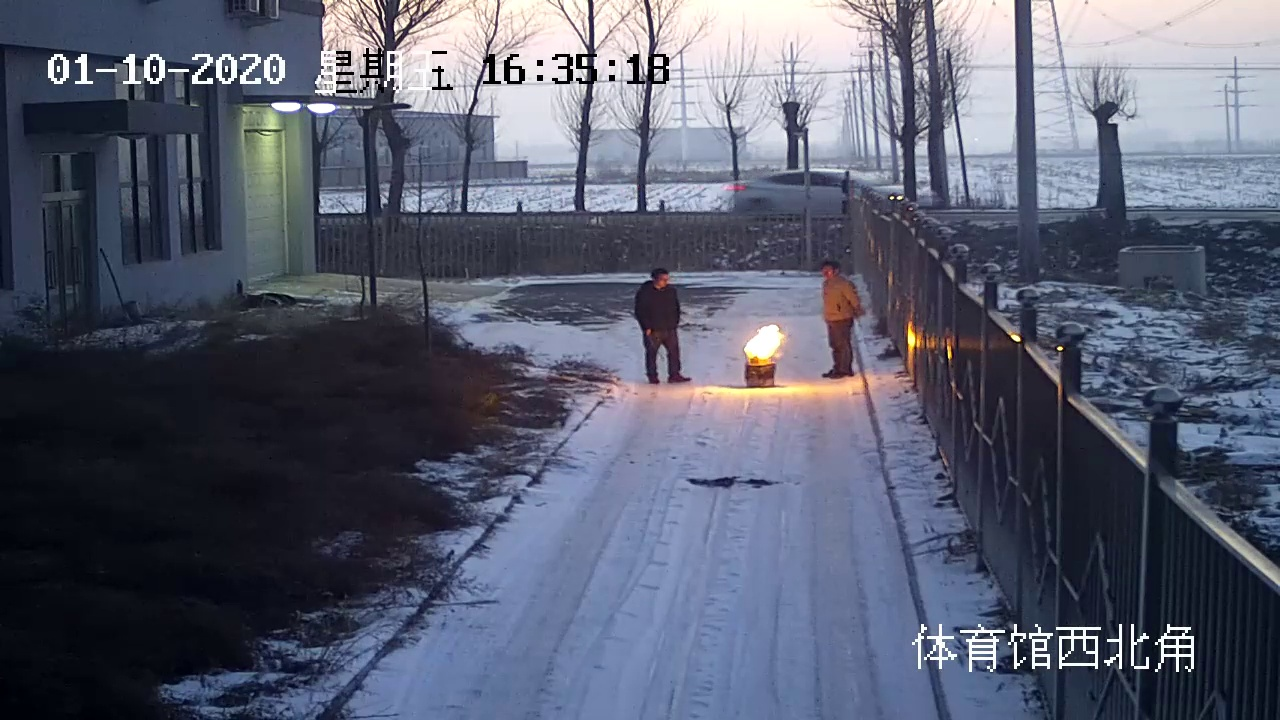fire: (741, 322, 790, 361)
